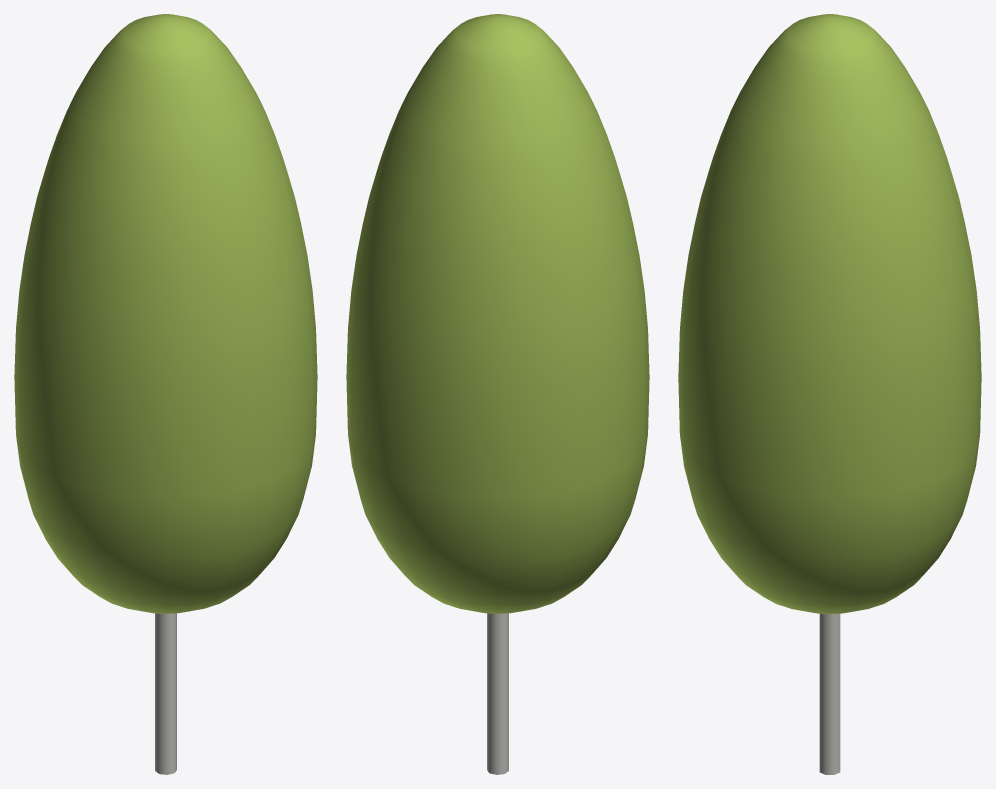
File: AlnusRubra.glb
3 renders of one model, left to right at view 1: azimuth 30°, elevation 25°; view 2: azimuth 150°, elevation 25°; view 3: azimuth 270°, elevation 25°, orthographic.
Parts seen in each view (by area): view 1: Red_Alder__Schematic_LOD3; view 2: Red_Alder__Schematic_LOD3; view 3: Red_Alder__Schematic_LOD3.
Part boxes in pixels (bbox=[...]): Red_Alder__Schematic_LOD3: bbox=[14, 14, 317, 774]; Red_Alder__Schematic_LOD3: bbox=[346, 14, 649, 774]; Red_Alder__Schematic_LOD3: bbox=[678, 14, 981, 774].
Size of the model in its own units: 8.48 by 23.2 by 8.48.
